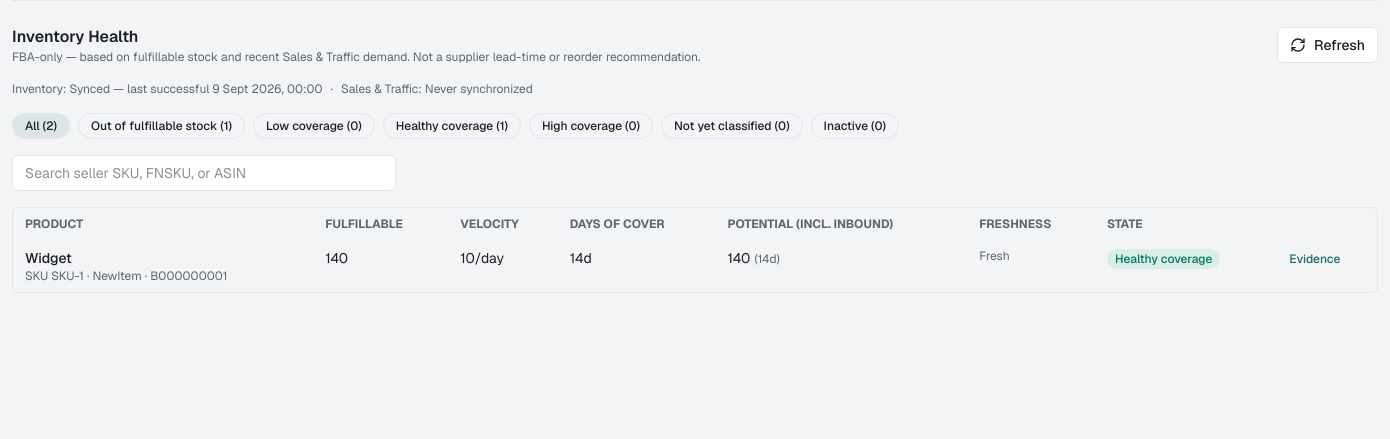
Test: SellerInventoryHealth › opens the evidence panel and shows formula inputs on demand
This screenshot has width=1390, height=439.
expect the row with test id "inventory-health-row-inv-1" is shown: met, box [13,240,1377,292]
Click the button "Evidence". click: (1315, 259)
box: [1289,251,1340,267]
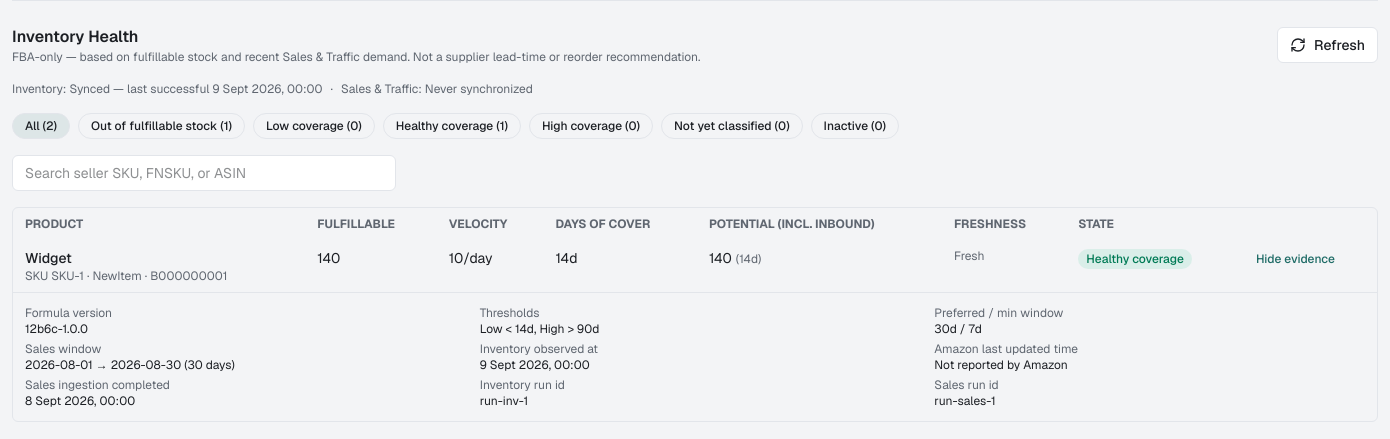
expect the text "run-inv-1" is shown: met, box [480,393,528,409]
expect the text "run-sales-1" is shown: met, box [934,393,996,409]
expect the text "12b6c-1.0.0" is shown: met, box [25,321,88,337]
